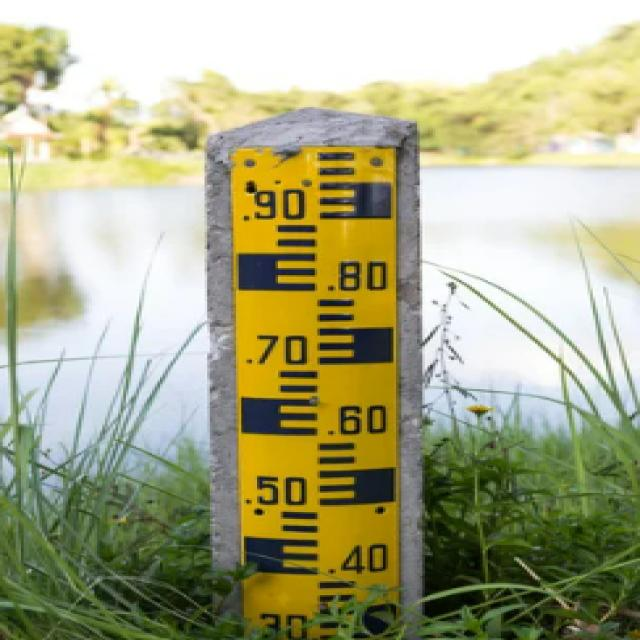ruler: (212, 128, 416, 636)
value: (237, 469, 320, 511), (320, 537, 400, 579), (230, 186, 317, 224), (320, 399, 398, 441), (318, 256, 398, 296), (240, 330, 318, 369)
